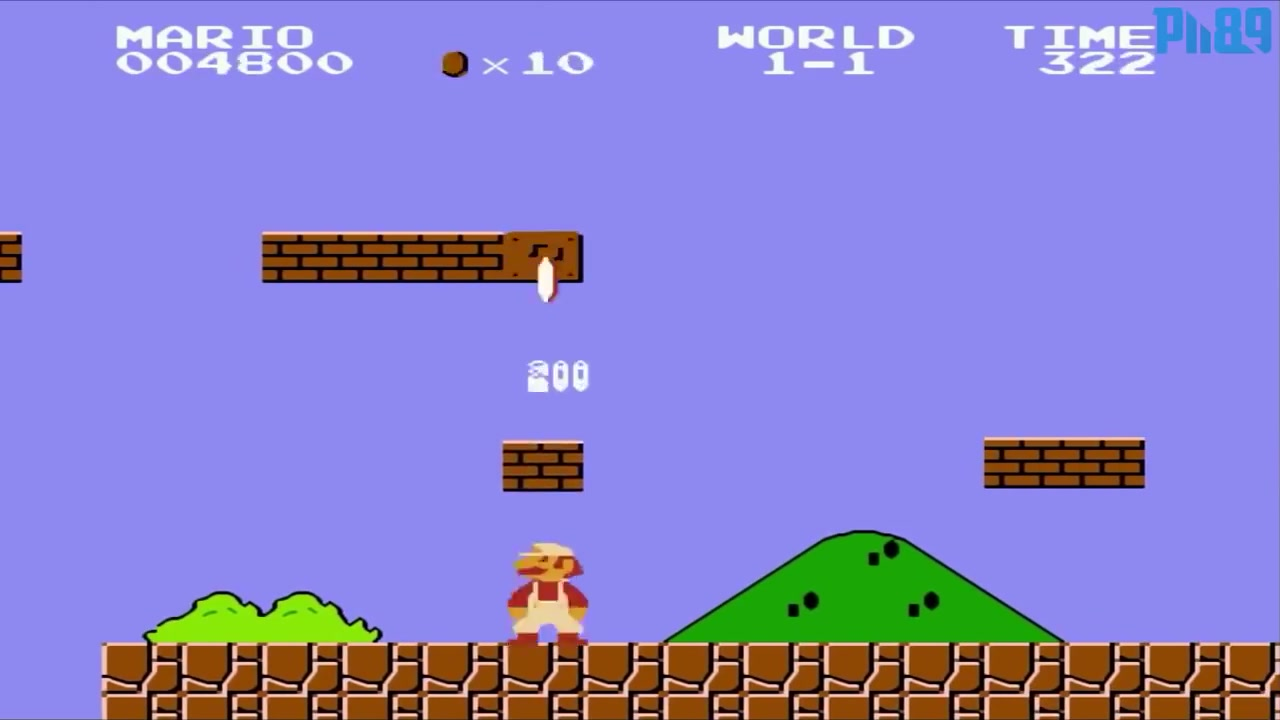mario: (496, 539, 594, 647)
